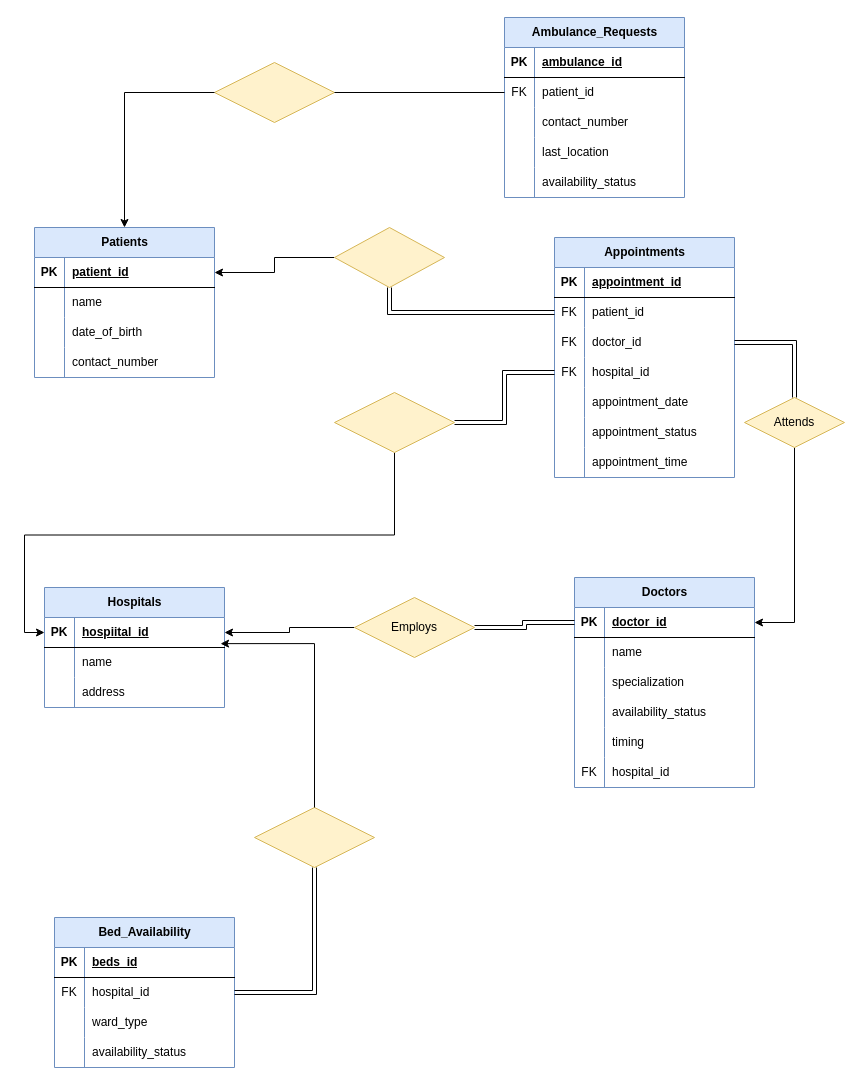
Some shapes in this 862 by 1085 pixel diagram are drawn without their labels. Here are the shapes that lost their labels. From the top down, the centre of each, then its label:
pixel 274 92: Requests
pixel 389 257: Books
pixel 394 422: ScheduledAt
pixel 314 837: Hasbeds
